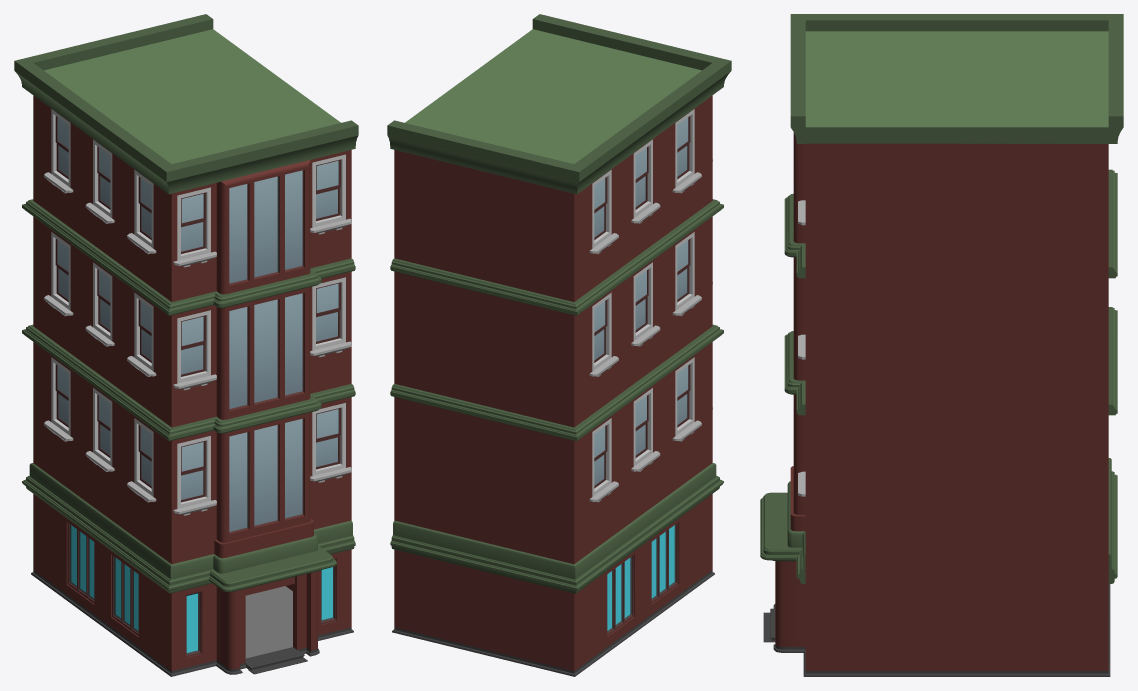
Rendered from SM_Buildings_House_04_V3.fbx.
3 views of the same model, side by side, from view 1: azimuth 30°, elevation 25°; view 2: azimuth 150°, elevation 25°; view 3: azimuth 270°, elevation 25° (orthographic). The views are drawn at different scales.
Parts seen in each view (by area): view 1: SM_Buildings_House_04_V3; view 2: SM_Buildings_House_04_V3; view 3: SM_Buildings_House_04_V3.
Boxes of the visible parts, x1=… form: SM_Buildings_House_04_V3: x1=14, y1=14, x2=358, y2=676; SM_Buildings_House_04_V3: x1=387, y1=14, x2=731, y2=676; SM_Buildings_House_04_V3: x1=760, y1=14, x2=1123, y2=676.
Size of the model in its own units: 8.06 by 20.4 by 12.
